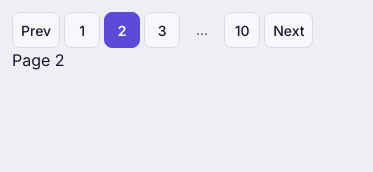
it: Pagination › navigation › advances to the next page when Next is clicked
The image size is (373, 172).
Click the button with aria-label "Go to next page". click: (289, 30)
box: x1=264 y1=12 x2=313 y2=48
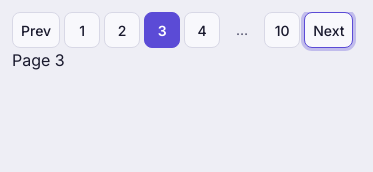
Check: the text with test id "page-display" reads "Page 3", box x1=12 y1=50 x2=65 y2=70
